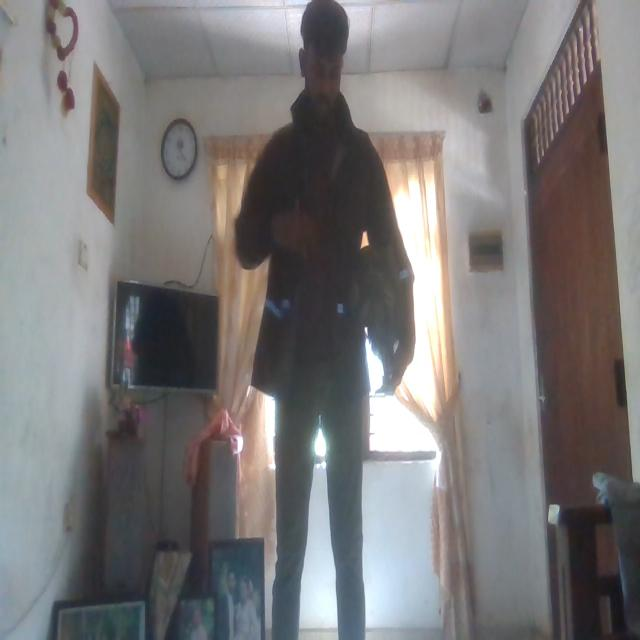Jacket_Wearer: (244, 86, 412, 424)
Person: (236, 8, 406, 640)
